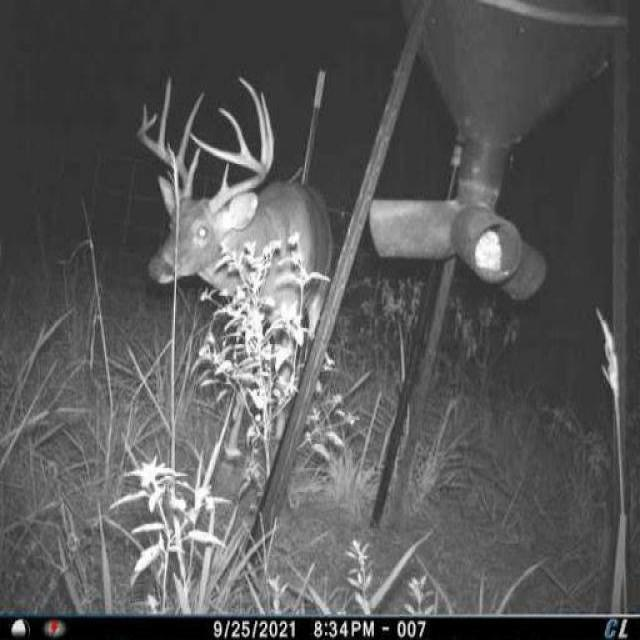deer: (136, 67, 338, 482)
